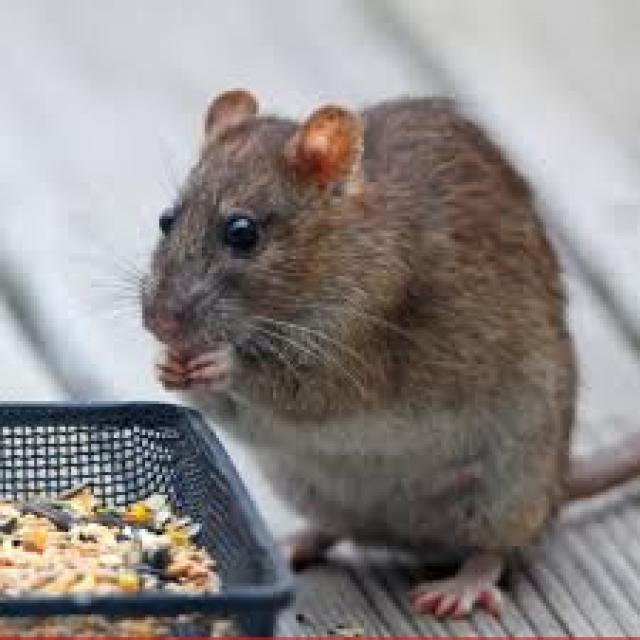Rat: (104, 46, 626, 589)
